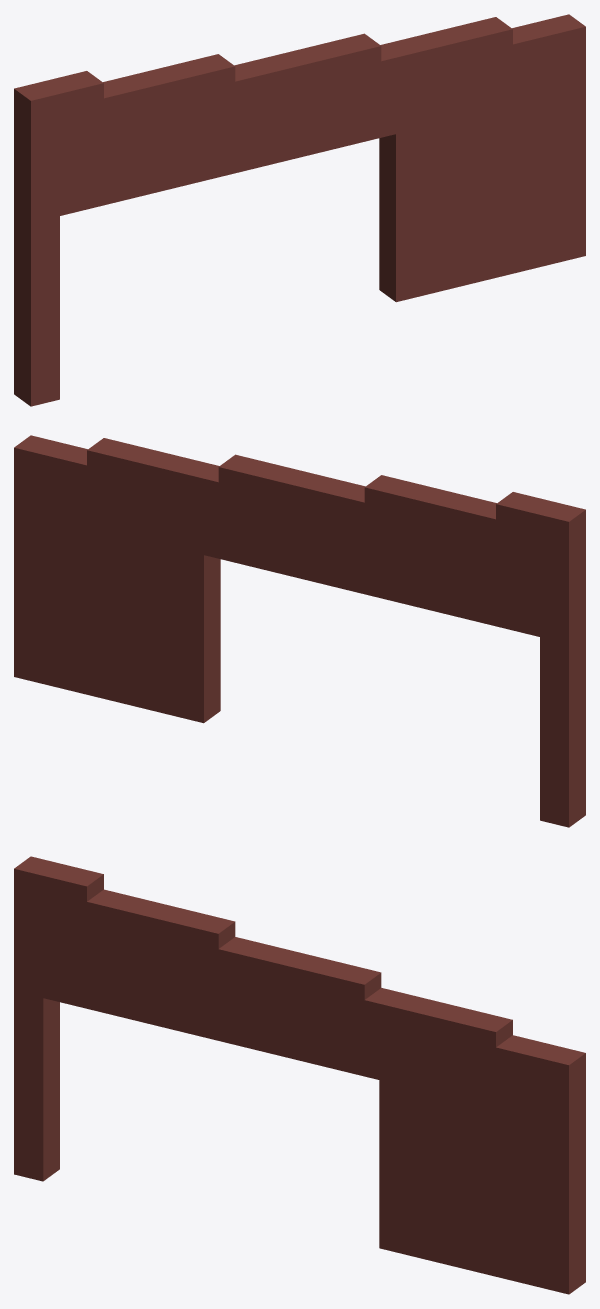
File: hatchback_front_wing.glb
3 views of the same model, one above another, from view 1: azimuth 30°, elevation 25°; view 2: azimuth 150°, elevation 25°; view 3: azimuth 330°, elevation 25° (orthographic).
Visible parts, largest first — view 1: body:compound; view 2: body:compound; view 3: body:compound.
Boxes of the visible parts, x1,y1,x2,y2 form: body:compound: [14, 14, 585, 406]; body:compound: [14, 435, 585, 827]; body:compound: [14, 856, 585, 1294].
Size of the model in its own units: 1.19 by 0.625 by 0.0625.
